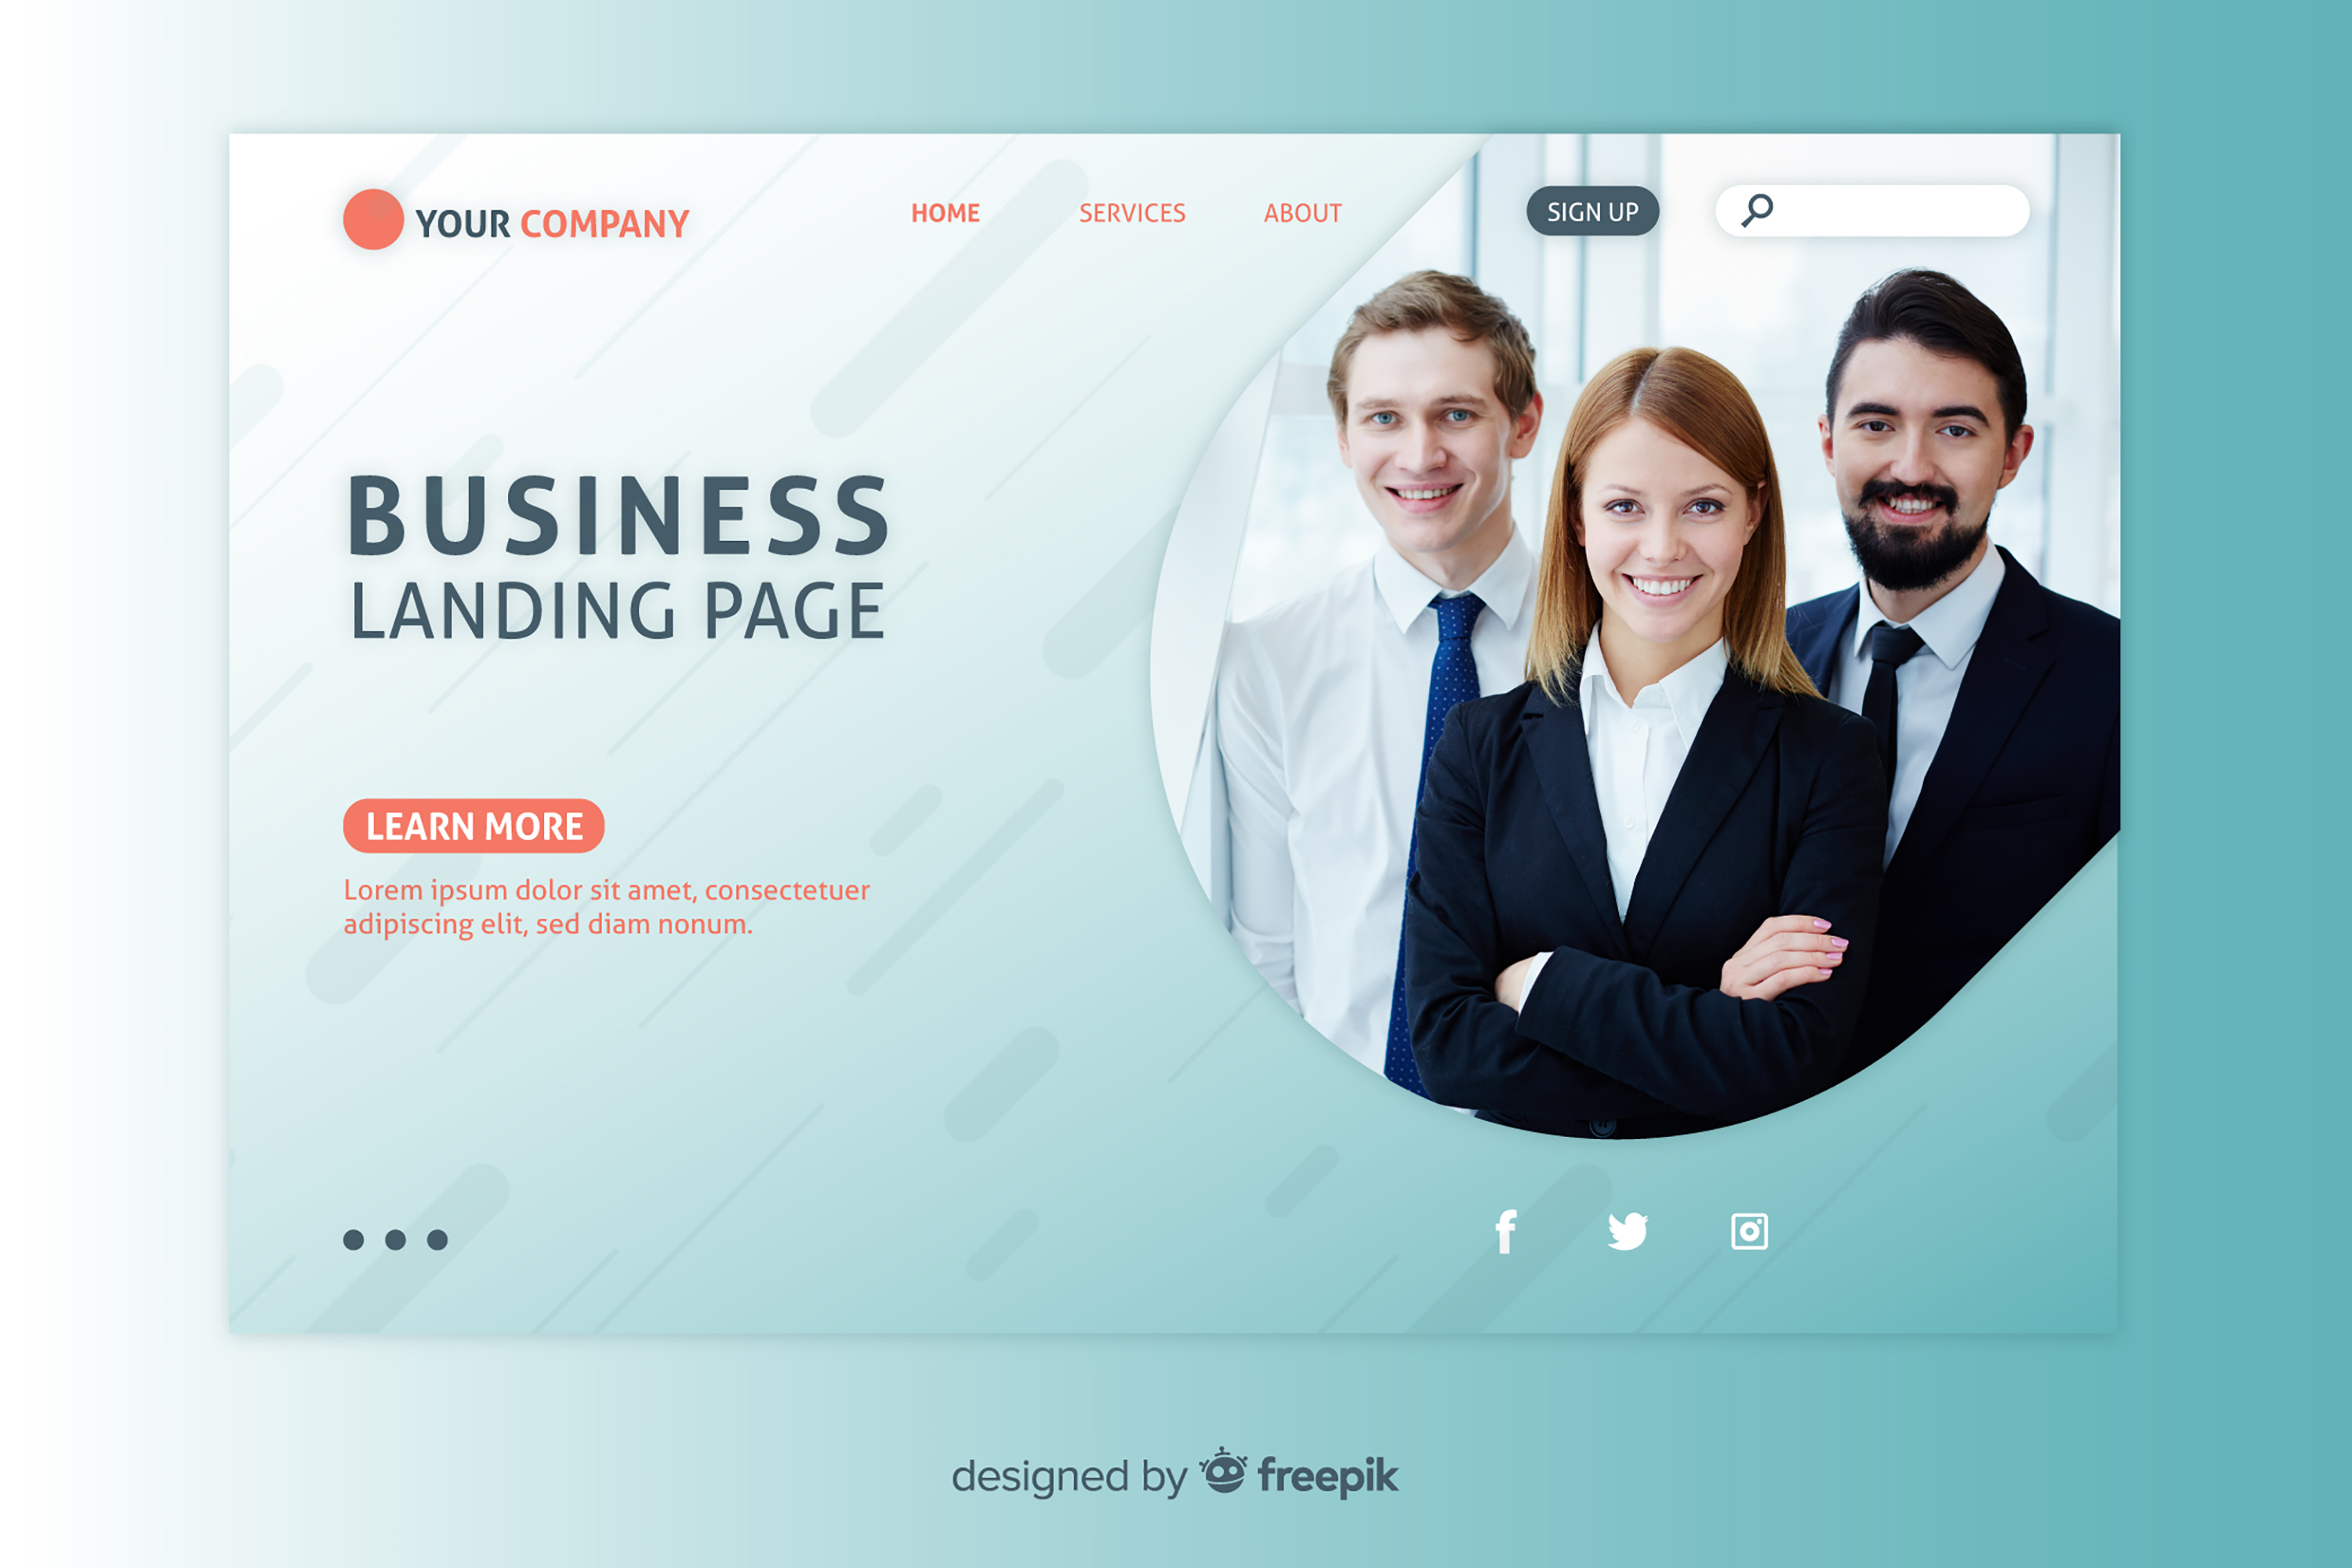menu-bar: (231, 145, 2118, 322)
